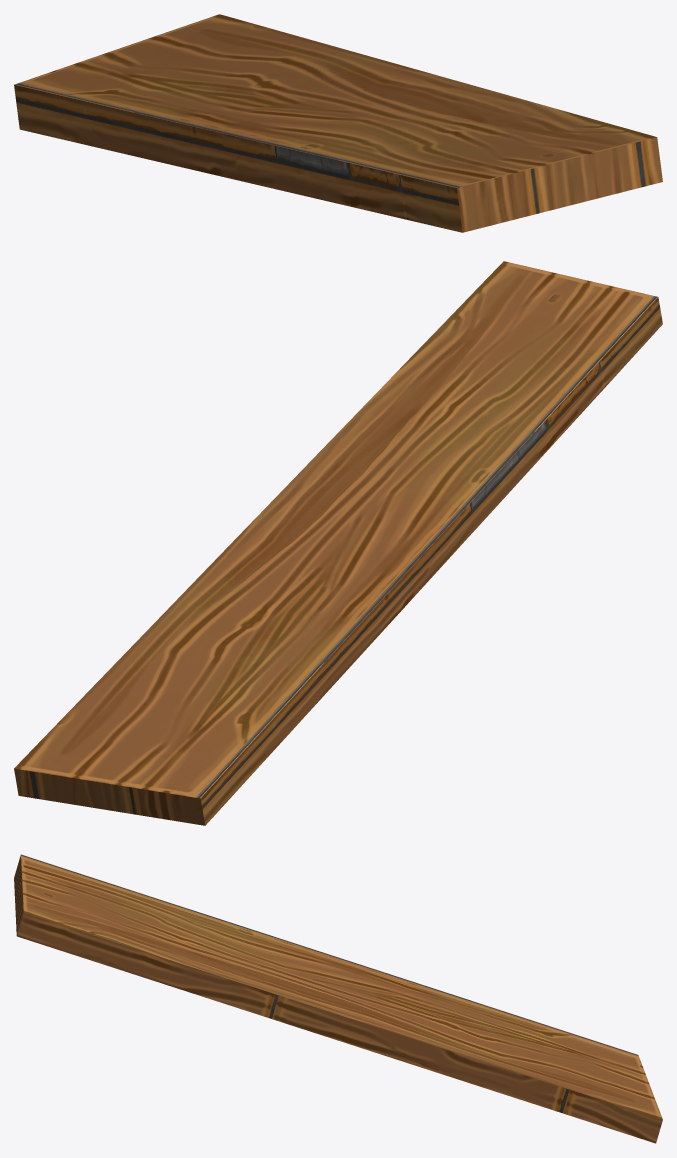
3 views of the same model, one above another, from view 1: azimuth 30°, elevation 25°; view 2: azimuth 150°, elevation 25°; view 3: azimuth 270°, elevation 25° (orthographic). The views are drawn at different scales.
Visible parts, largest first — view 1: Cube.564; view 2: Cube.564; view 3: Cube.564.
Part boxes in pixels (x1,y1,x2,y2): Cube.564: [14, 14, 662, 232]; Cube.564: [14, 261, 662, 825]; Cube.564: [14, 854, 662, 1143].
Size of the model in its own units: 65.48 by 69.22 by 203.
Materials: 1 (1 with a texture image).
